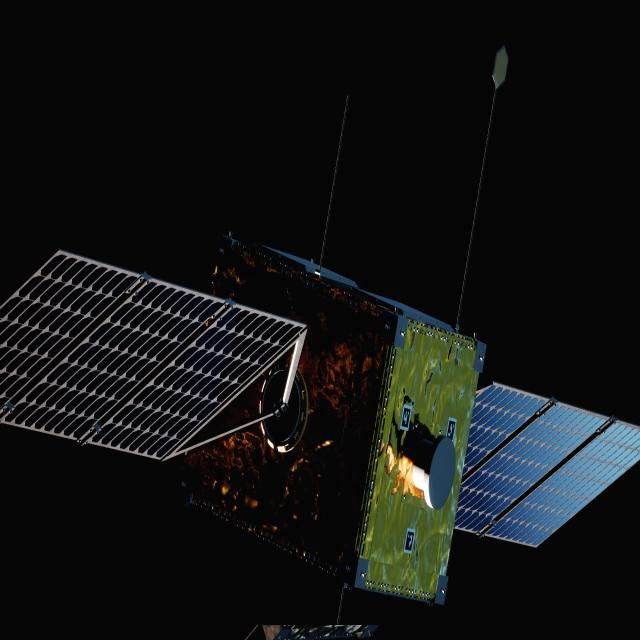satellite: (0, 235, 640, 610)
